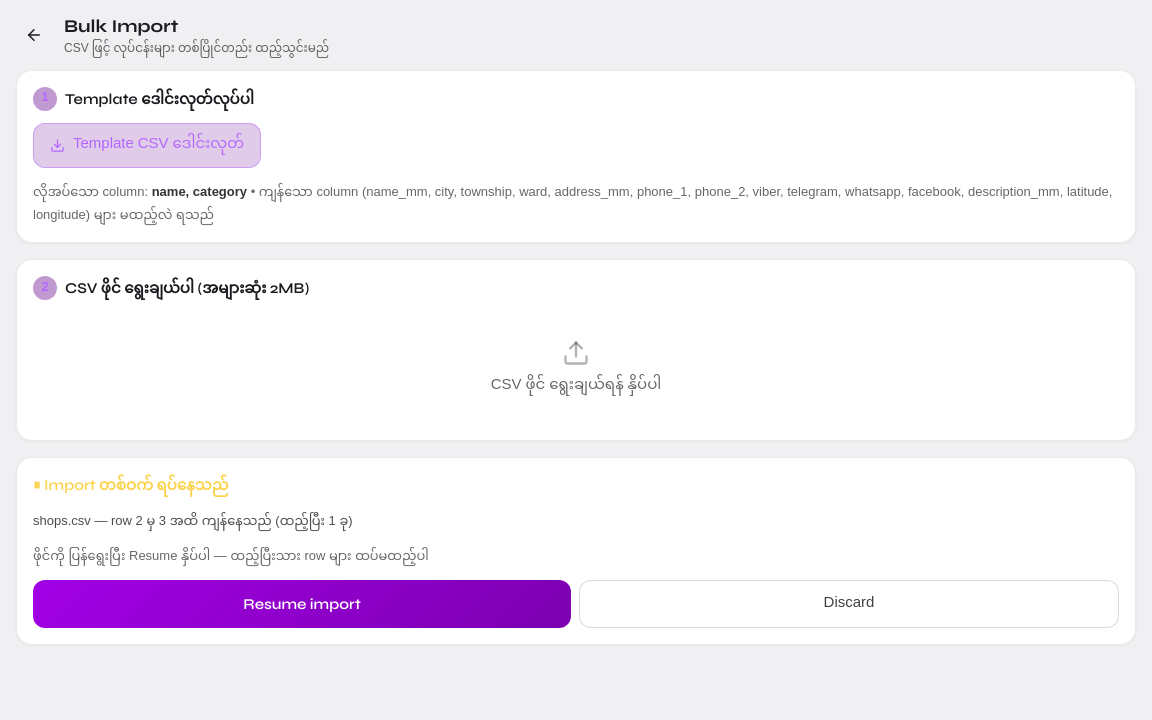
Test: v9.26: Resume banner (render) › a stored checkpoint shows the banner with file name + next row; Discard clears it
Expected: the text "⏸ Import တစ်ဝက် ရပ်နေသည်" is shown, [33,476,228,494]
Expected: the text "shops.csv — row 2 မှ 3 အထိ ကျန်နေသည် (ထည့်ပြီး 1 ခု)" is shown, [33,513,352,528]
What coordinates should you click on to do the following:
click the button "Discard"
I would click on:
 (849, 604)
Its box is [579,580,1119,628].
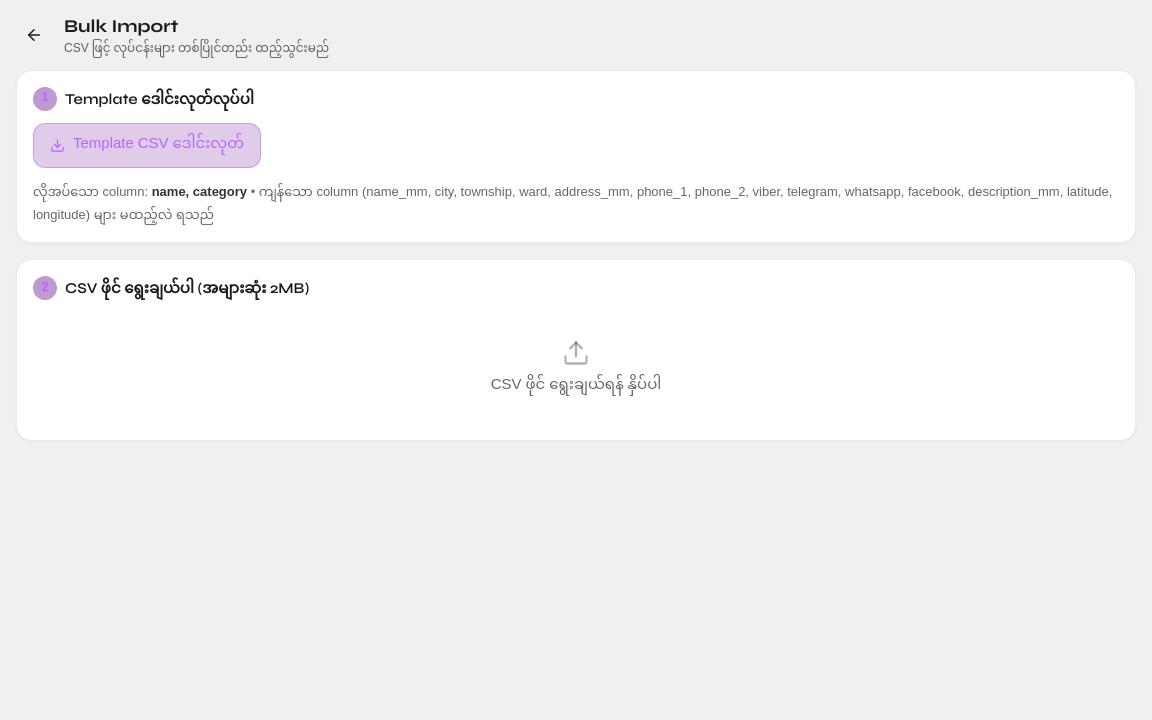
Expected: the text "Import တစ်ဝက် ရပ်နေသည်" is gone
